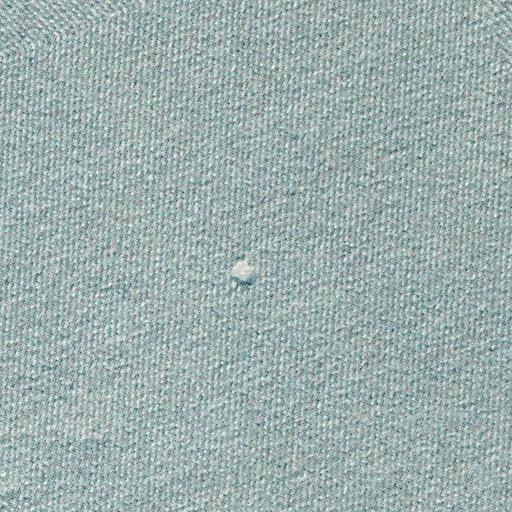knot: (221, 249, 271, 295)
